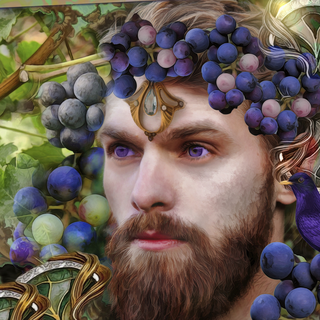eye: (175, 138, 222, 165), (100, 138, 143, 163)
